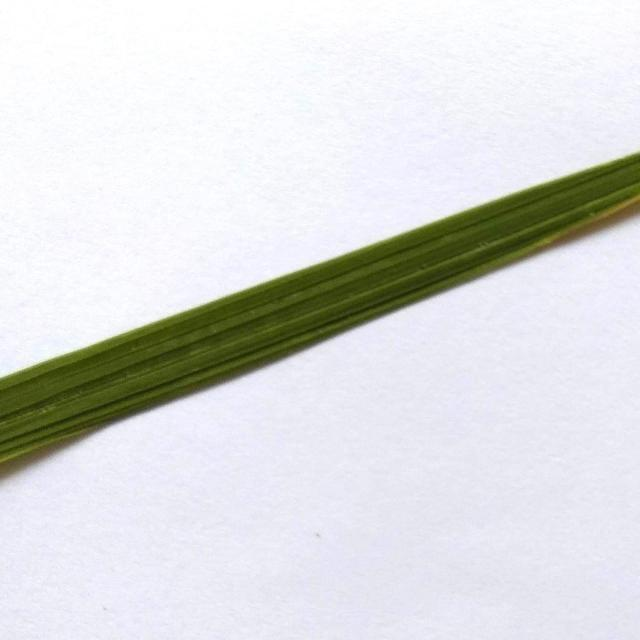healthy: (0, 142, 640, 486)
